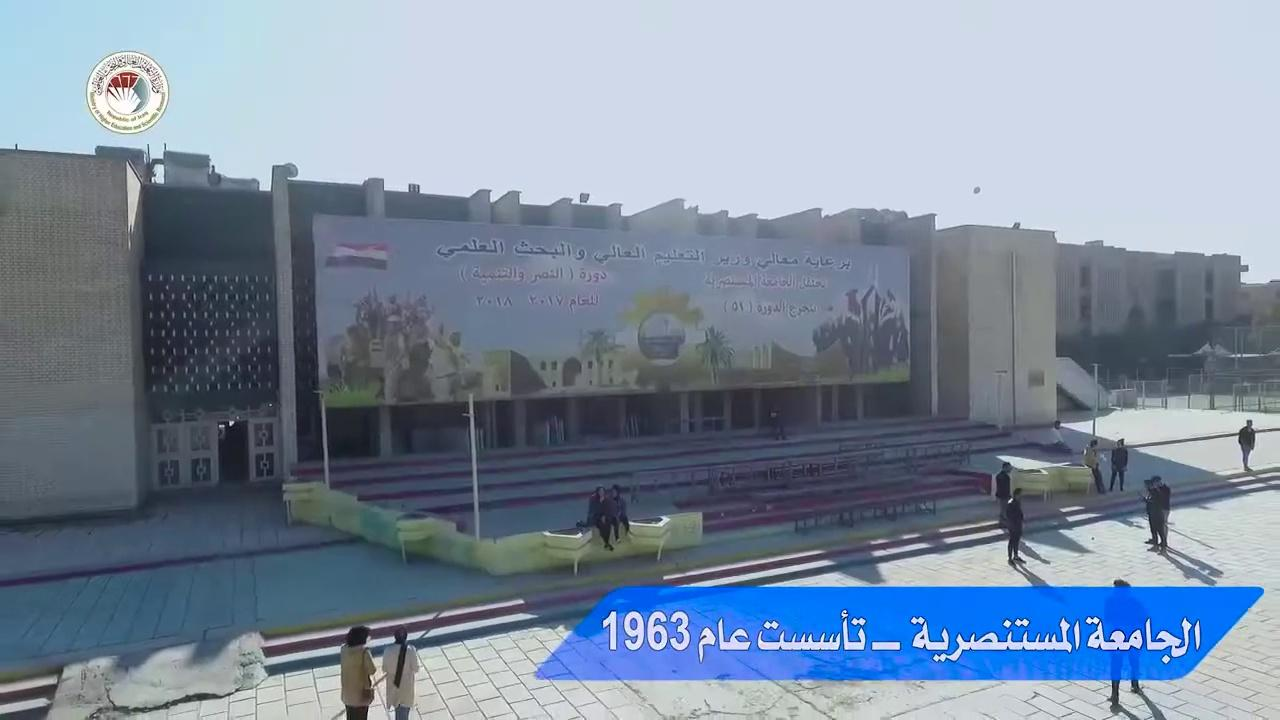car: (994, 455, 1095, 499)
fountain: (1166, 337, 1278, 392), (637, 310, 686, 364)
person: (1103, 578, 1143, 703), (339, 624, 377, 719), (381, 624, 418, 719), (1142, 475, 1170, 549), (586, 485, 615, 551), (1005, 487, 1026, 563), (609, 484, 632, 541), (1083, 438, 1106, 494), (995, 461, 1012, 526), (1109, 438, 1128, 491), (1238, 418, 1256, 470)
tree: (579, 327, 624, 385), (693, 324, 734, 385)
